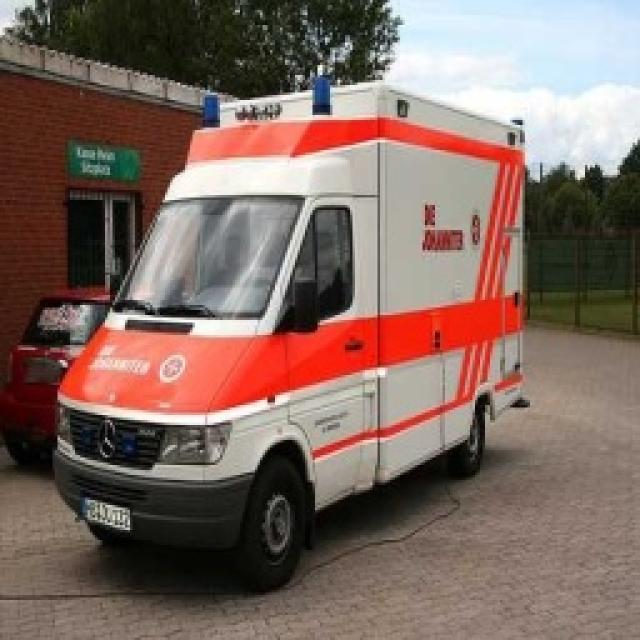emergency-vehicle: (50, 84, 538, 577)
